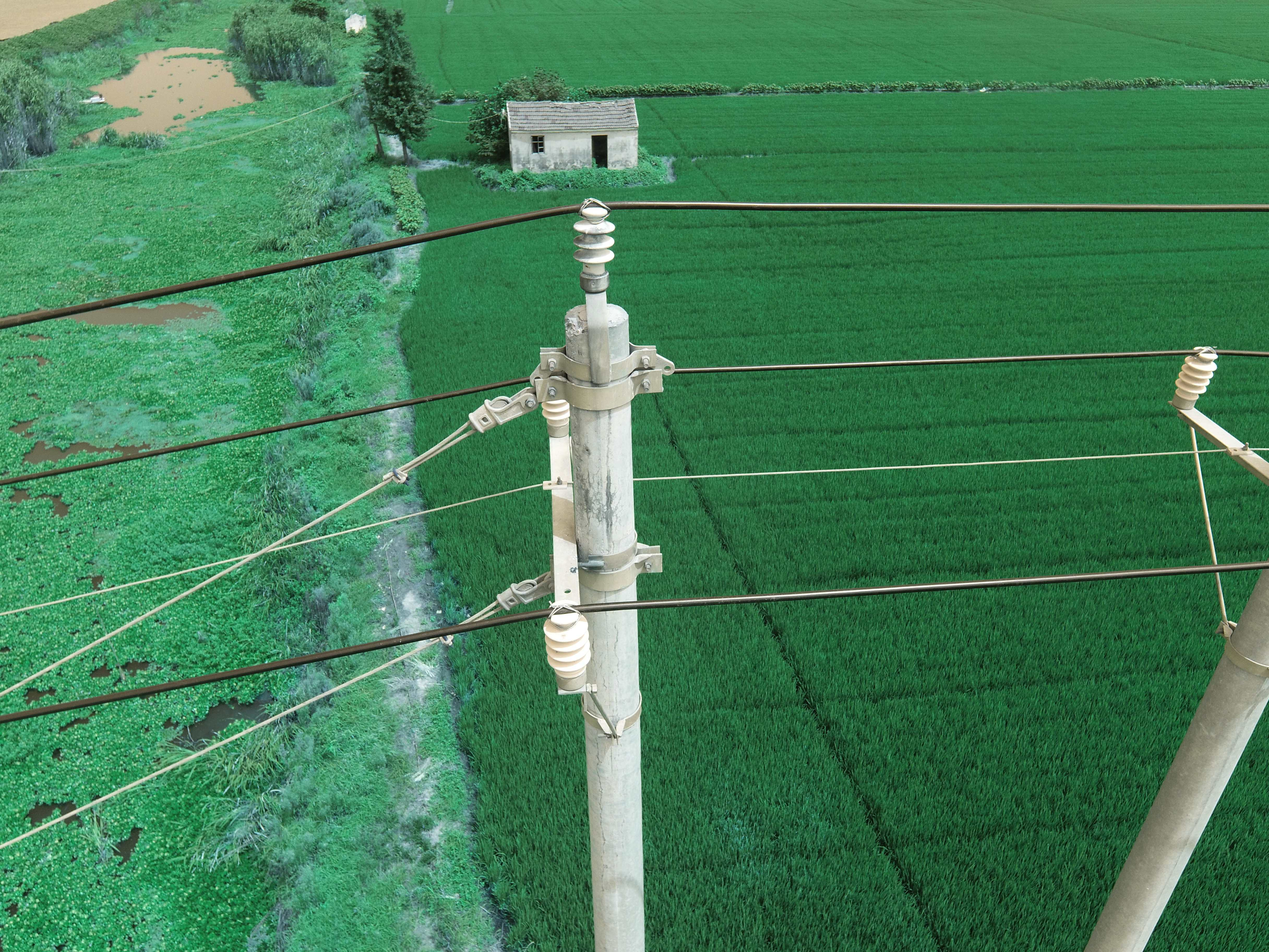severe_soiling_no_discharge_whole: (571, 204, 619, 294)
